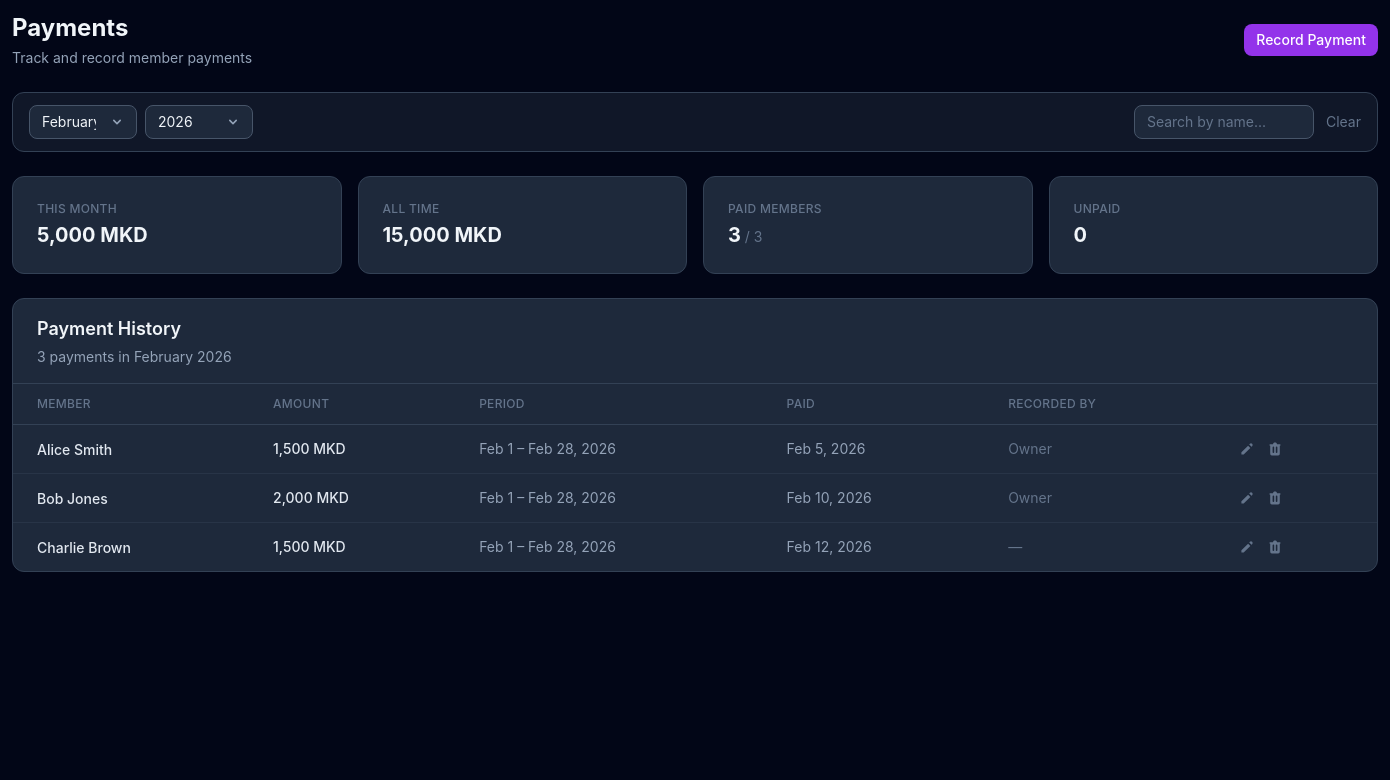
Scenario: PaymentsClient › Search › shows empty state when search matches nothing
Type "zzzzz" into the field named "Search payments by member name" at (1224, 122), box [1134,105,1314,139]
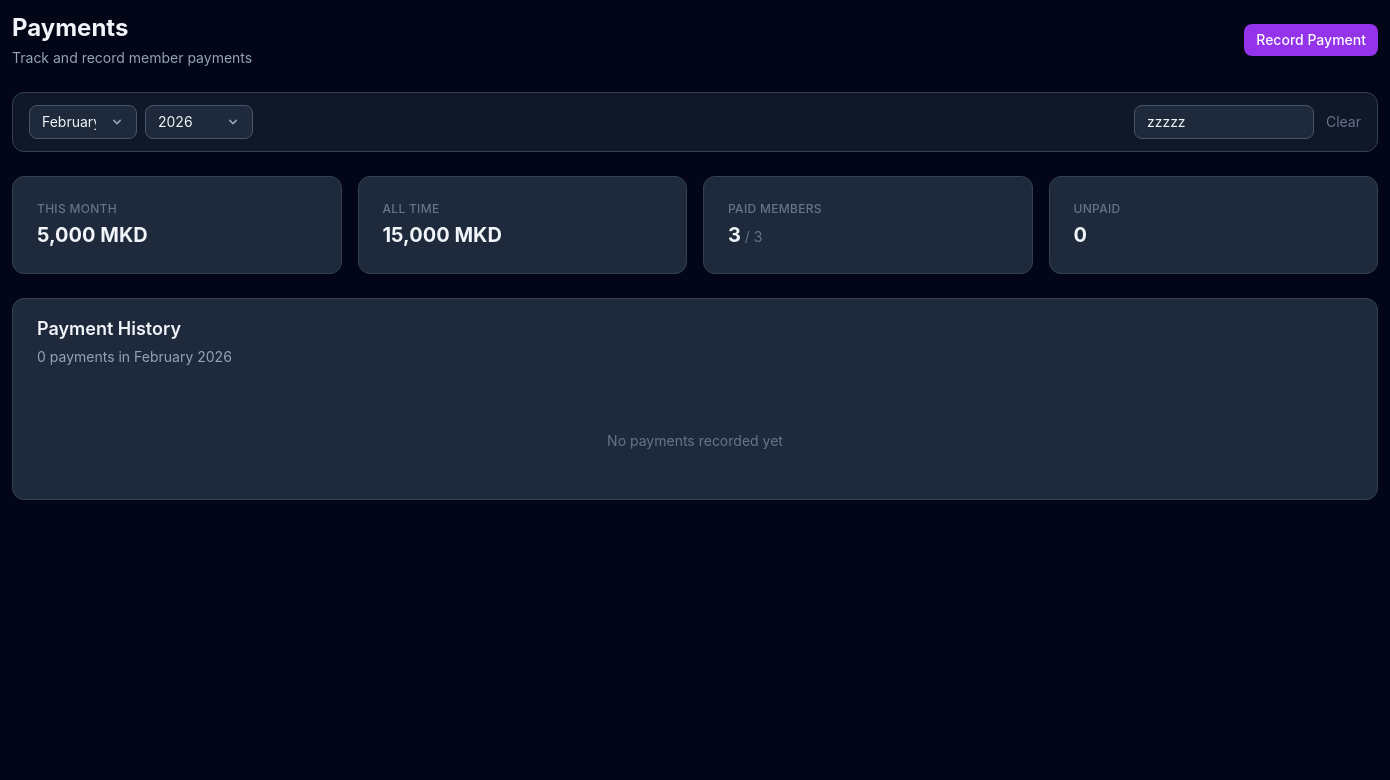
Check: the text "No payments recorded yet" is shown, box [607,432,783,449]
